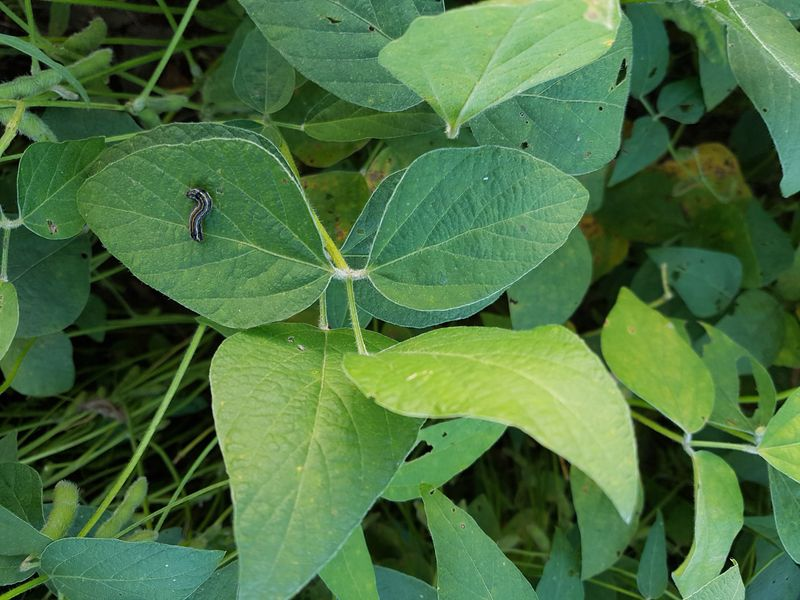Spodoptera_albula: (176, 181, 223, 247)
